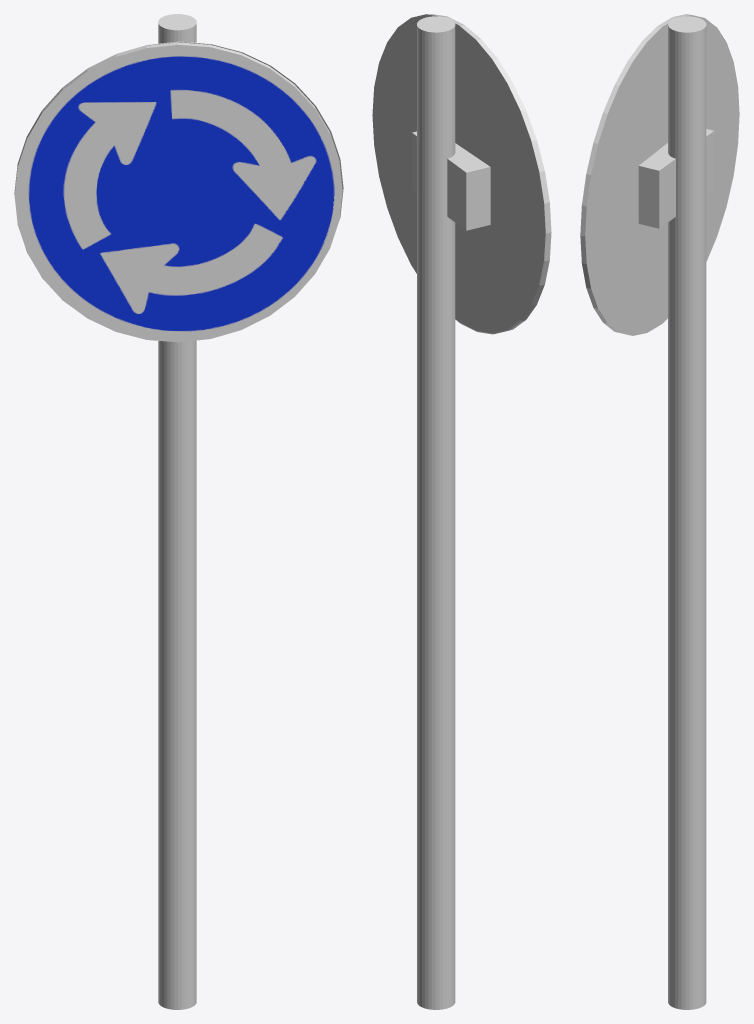
File: RambuBundarKel.fbx
3 renders of one model, left to right at view 1: azimuth 30°, elevation 25°; view 2: azimuth 150°, elevation 25°; view 3: azimuth 270°, elevation 25°, orthographic.
Parts seen in each view (by area): view 1: Cylinder.001, Cylinder; view 2: Cylinder, Cylinder.001, Cube; view 3: Cylinder, Cylinder.001, Cube.
Boxes of the visible parts, <box> form: Cylinder.001: <box>14,41,343,342</box>; Cylinder: <box>158,14,196,1009</box>; Cylinder: <box>417,16,455,1009</box>; Cylinder.001: <box>372,14,551,334</box>; Cube: <box>412,131,490,230</box>; Cylinder: <box>668,16,706,1009</box>; Cylinder.001: <box>580,14,739,335</box>; Cube: <box>638,129,714,228</box>.
Bounding box in the file's own units: 197 × 727 × 107.
2 materials, 1 textured.
